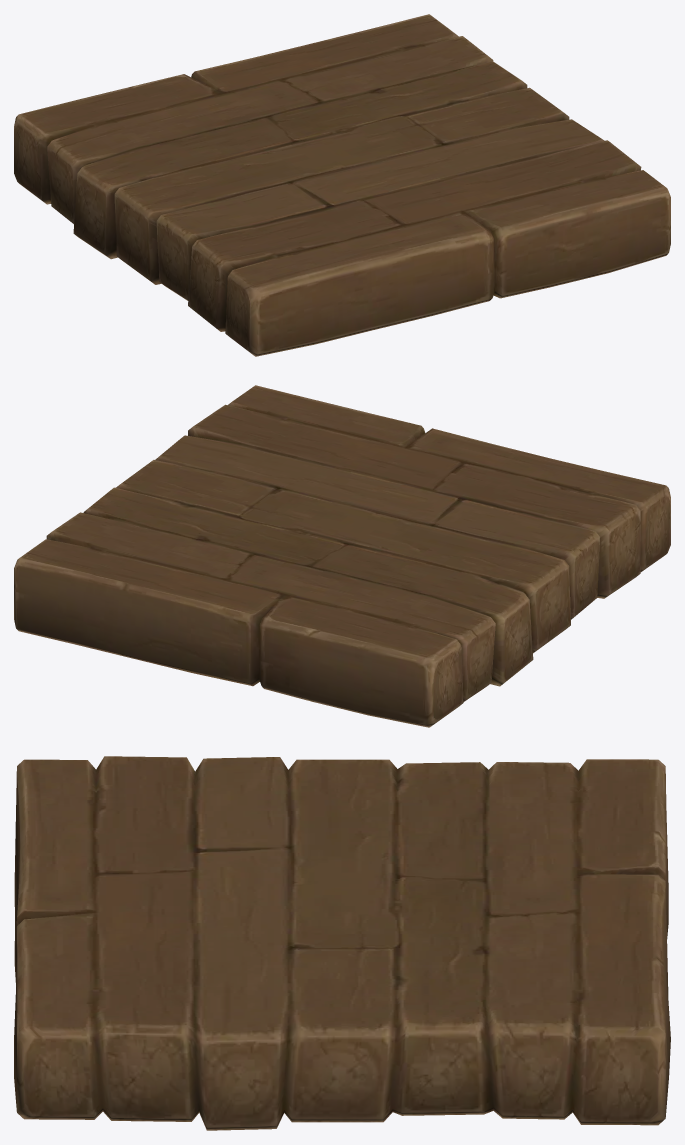
The picture shows the model from 3 angles, top to bottom: view 1: azimuth 30°, elevation 25°; view 2: azimuth 150°, elevation 25°; view 3: azimuth 270°, elevation 25°; orthographic projection. The views are drawn at different scales.
Size of the model in its own units: 5.12 by 0.8709 by 5.05.
1 material, 1 textured.
